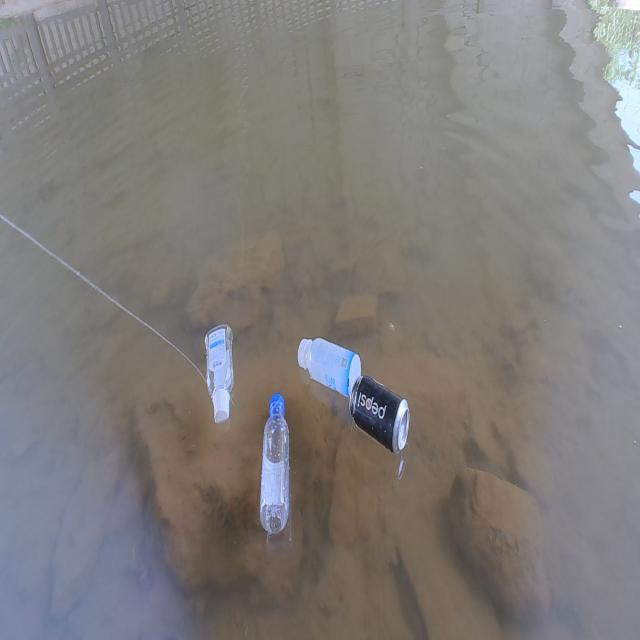bottle: (254, 389, 304, 540), (195, 323, 248, 428), (294, 328, 364, 400)
